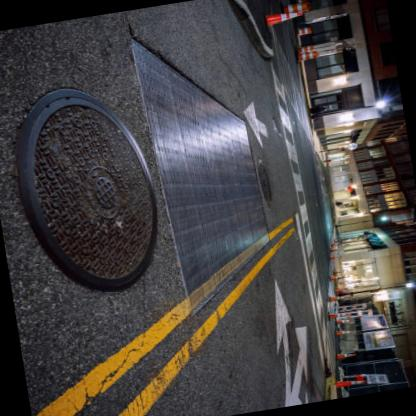manholes: (0, 55, 204, 343), (233, 130, 296, 222)
